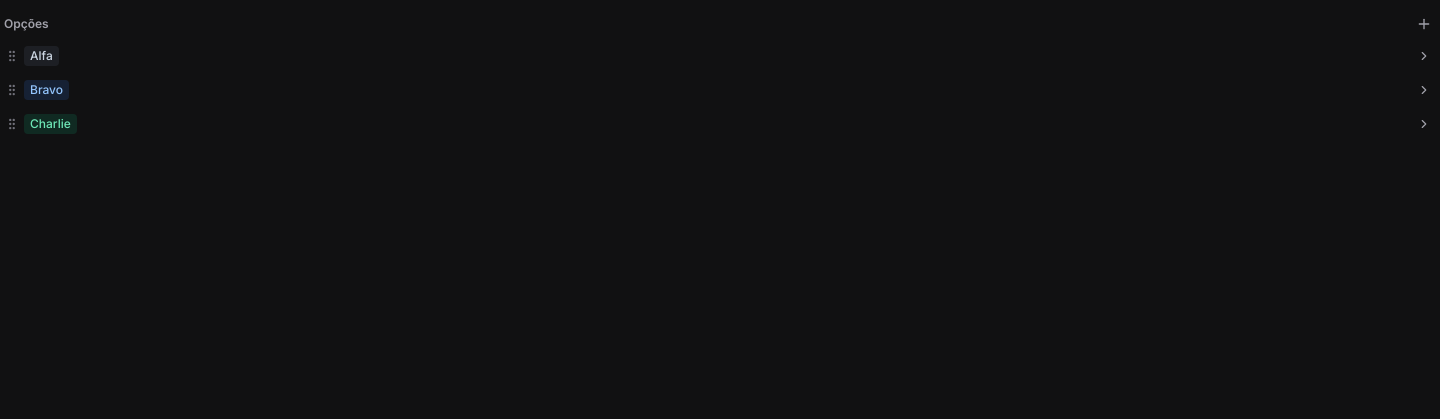
Scenario: SelectOptionsPopover — seletor de cor (seta da opção) › abre o popover com 9 cores nomeadas + Padrão
The image size is (1440, 419).
Step 1. Click the button named "Cor da opção Alfa" → [1424, 56], box [1412, 44, 1436, 68]
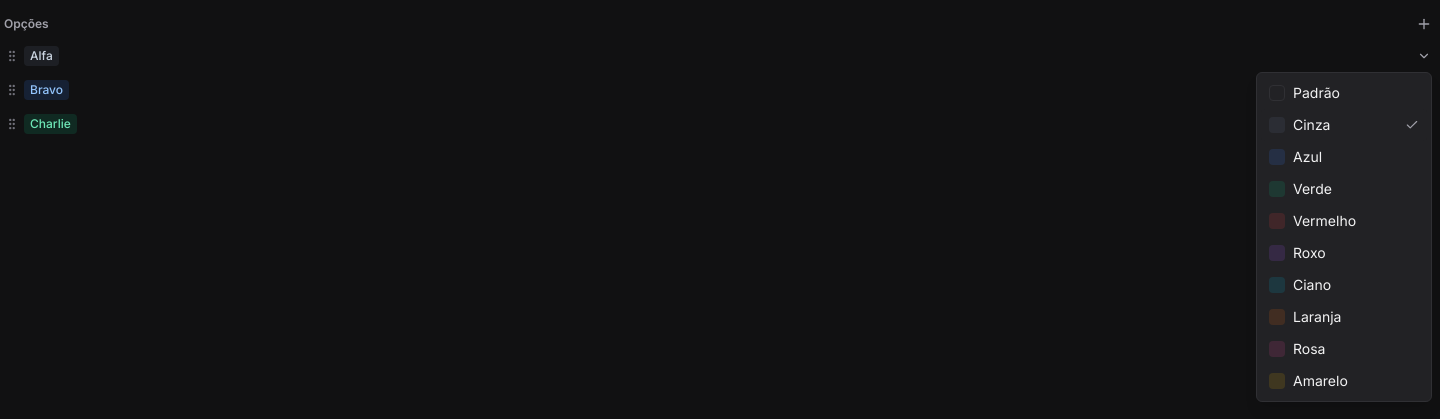
expect the number of menu items is 10: met
expect the menu item "Padrão" is shown: met, box [1261, 77, 1427, 109]
expect the menu item "Cinza" is shown: met, box [1261, 109, 1427, 141]
